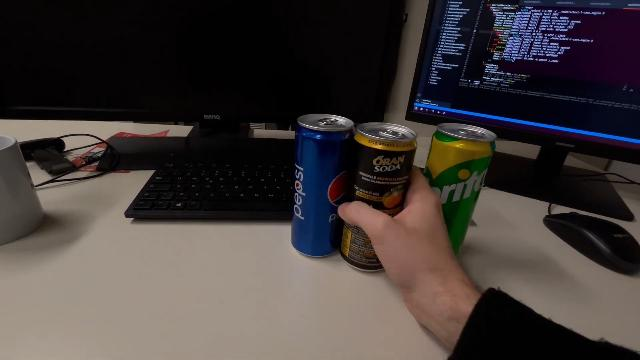OranSoda: (336, 118, 418, 276)
Pepsi: (290, 112, 354, 258)
Sprite: (422, 120, 498, 262)
